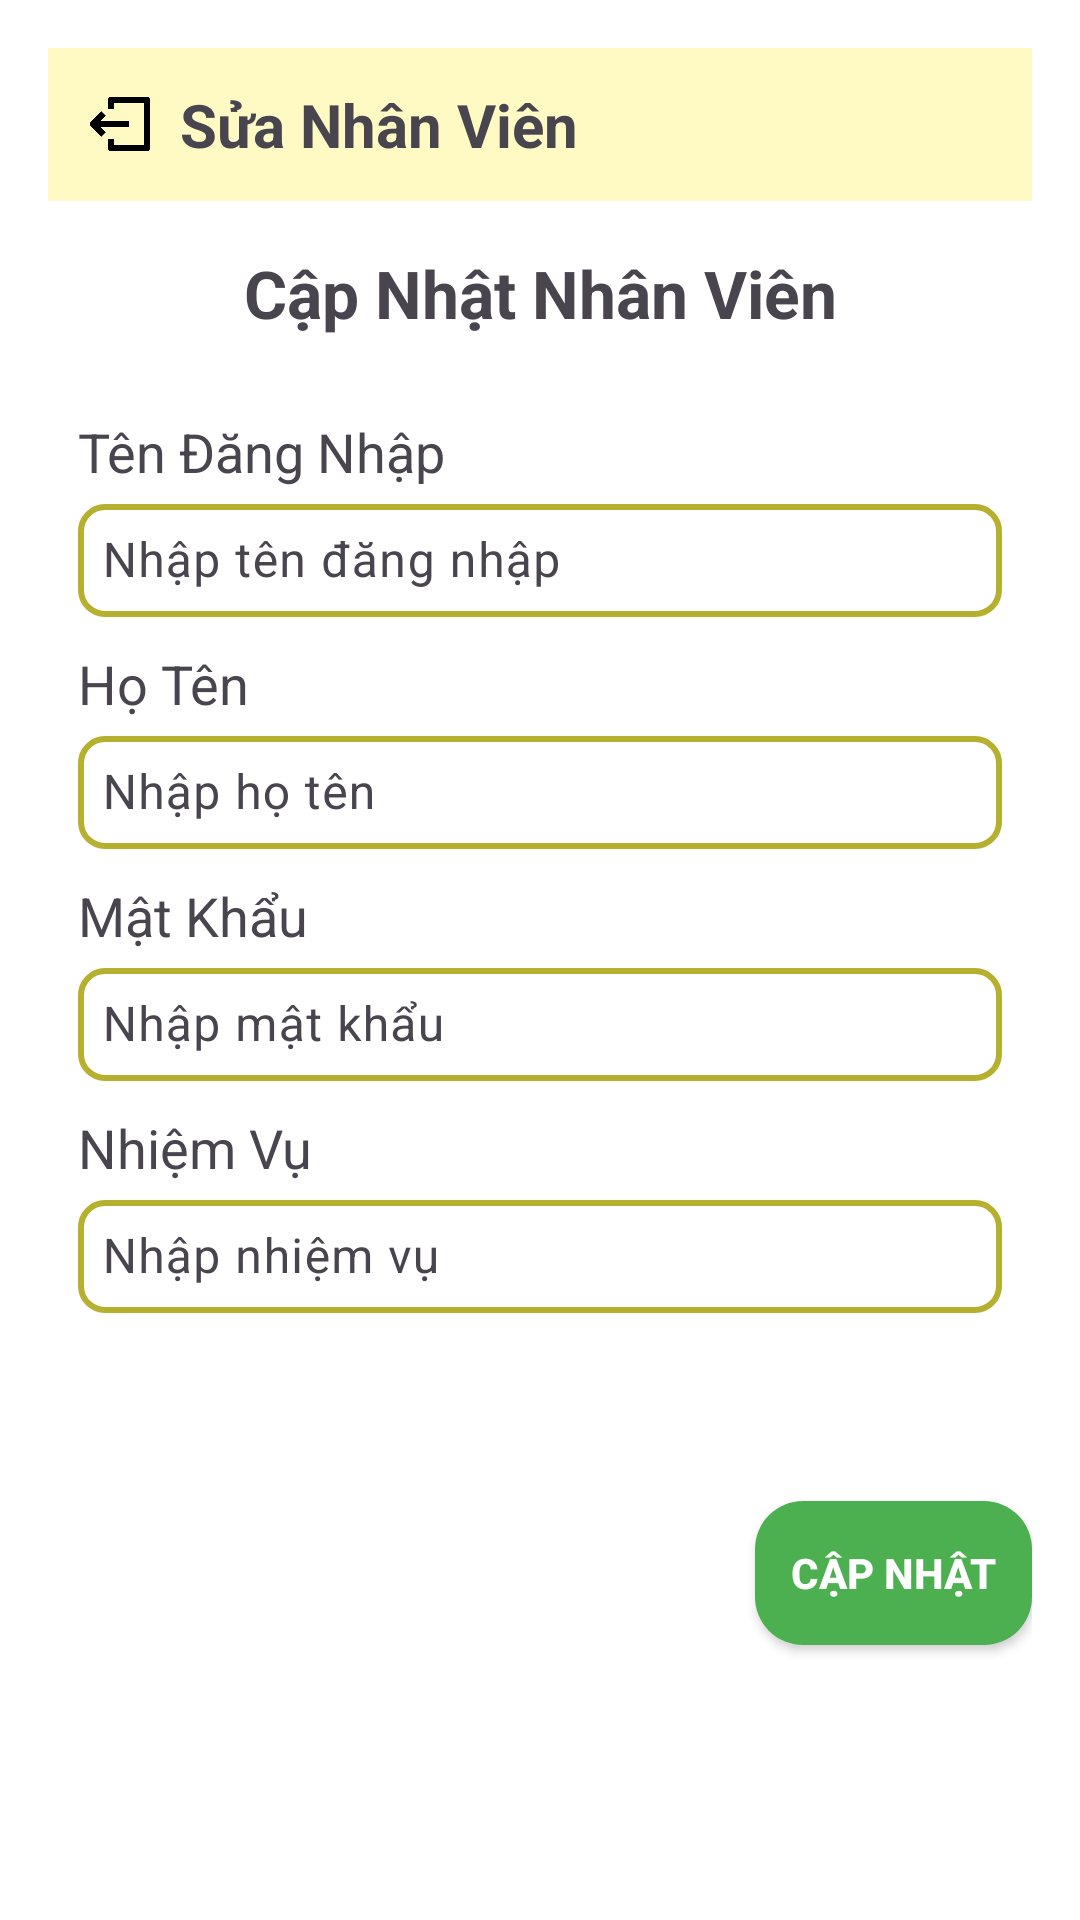

Icon click points for this 1080 × 1920 phone screenshot, format point (x, y):
Thoát: point (120, 124)
